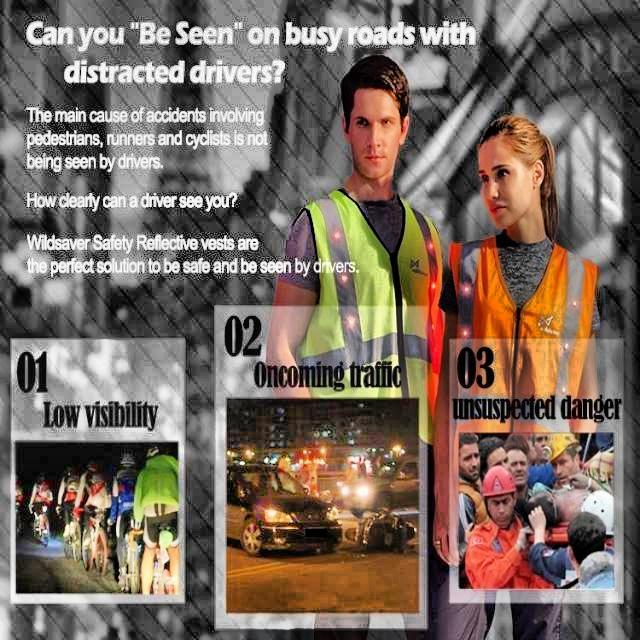safety_jacket: (301, 190, 435, 397), (454, 242, 590, 340)
